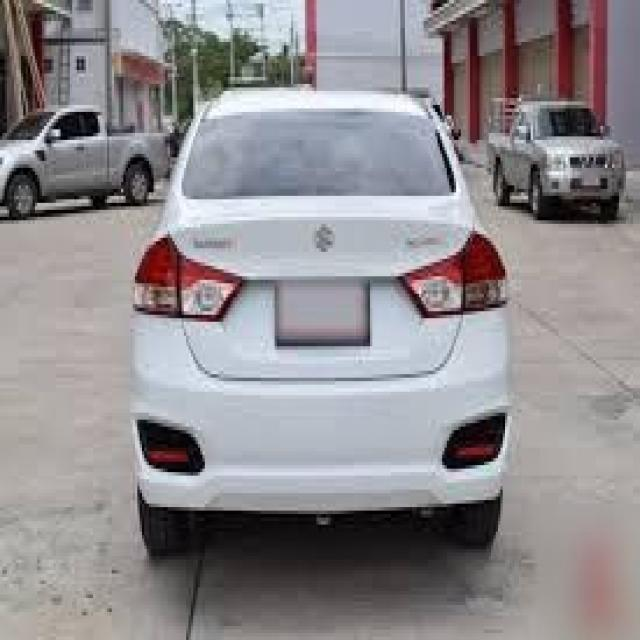back_bumper: (132, 309, 515, 512)
back_glass: (183, 109, 457, 201)
back_left_light: (134, 232, 248, 320)
back_right_light: (399, 230, 510, 317)
tailgate: (169, 193, 474, 380)
